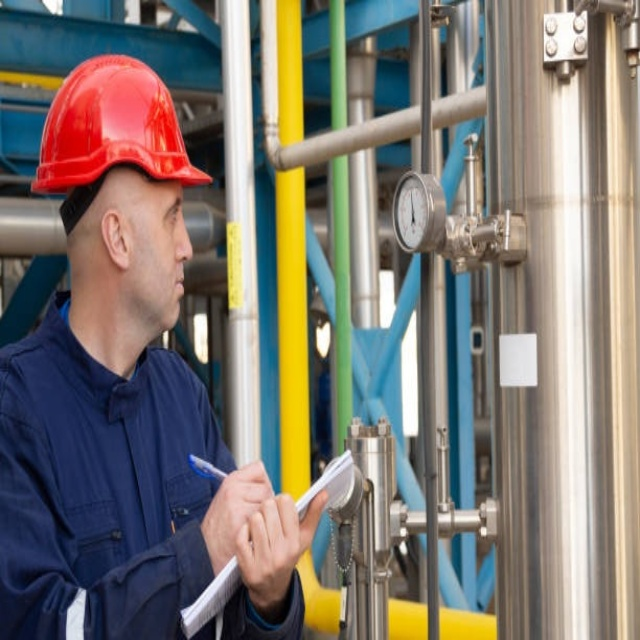Sin_gafas: (128, 188, 186, 235)
Sin_guantes: (230, 478, 330, 602), (203, 452, 277, 563)
Sin_mascara: (150, 265, 185, 320)
